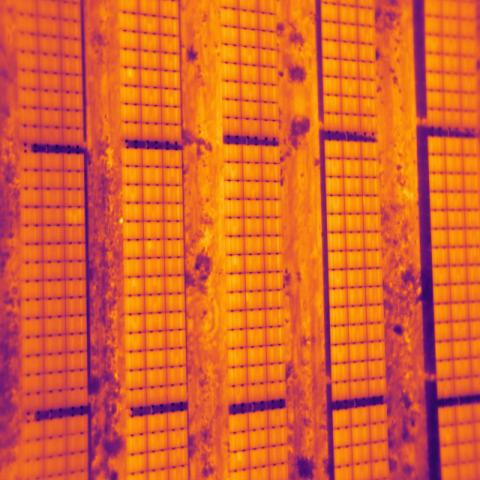fault: (122, 66, 143, 86), (64, 207, 86, 226), (224, 163, 244, 183), (226, 256, 244, 274)
